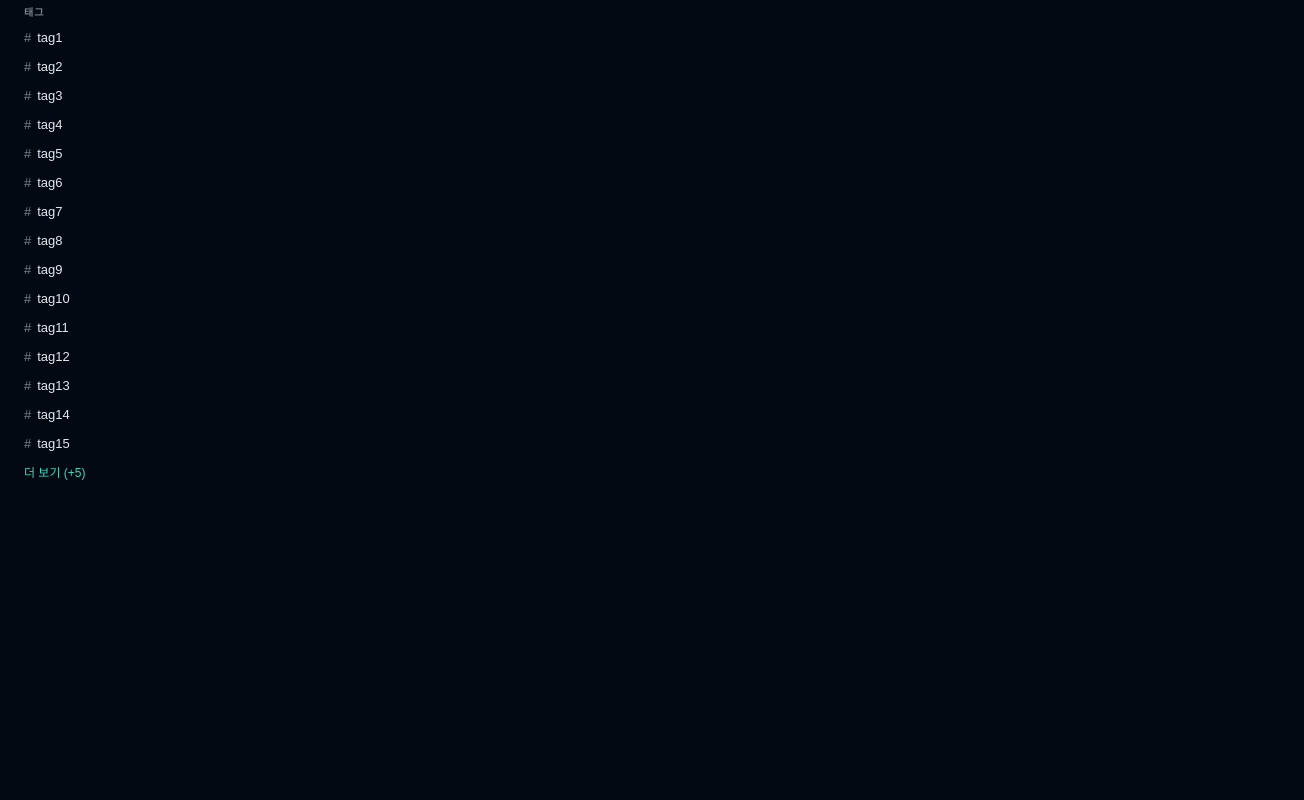
Test: SidebarTagList (SPEC-UX-003) › "더 보기" 클릭 시 모든 태그를 표시한다
Step 1. Click the button with test id "sidebar-tag-more" → (55, 473), box top-left (12, 458), bottom-right (1292, 485)
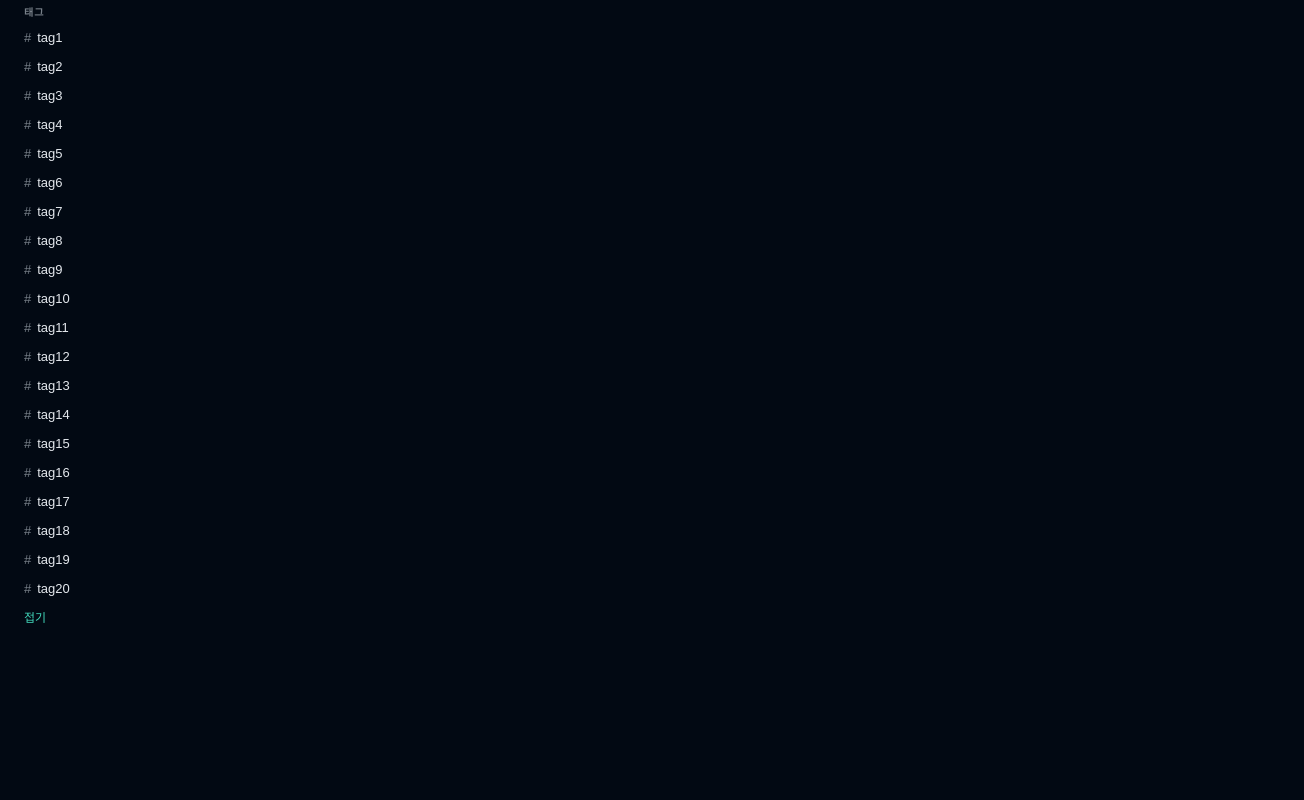
expect the text "tag20" is shown: met, box top-left (37, 581), bottom-right (70, 596)
